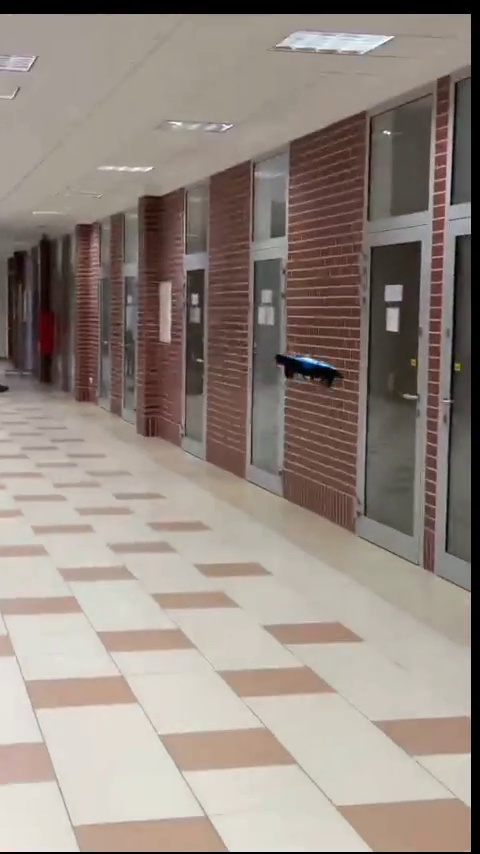drone: (271, 346, 343, 387)
